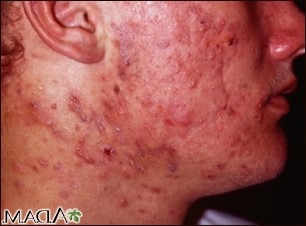Acne: (11, 5, 271, 199)
